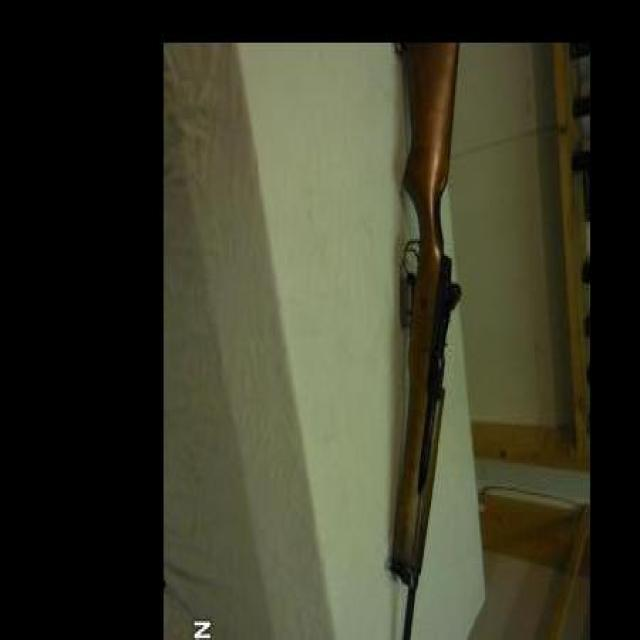weapon: (386, 41, 464, 640)
